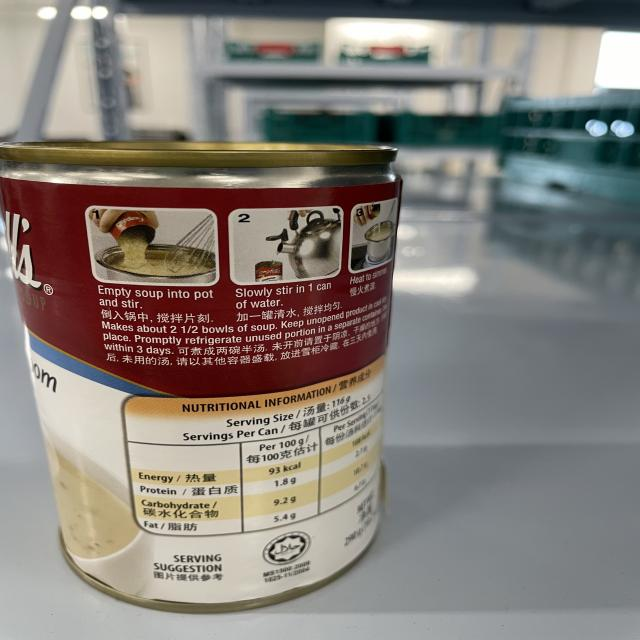object_name: (15, 148, 391, 597)
